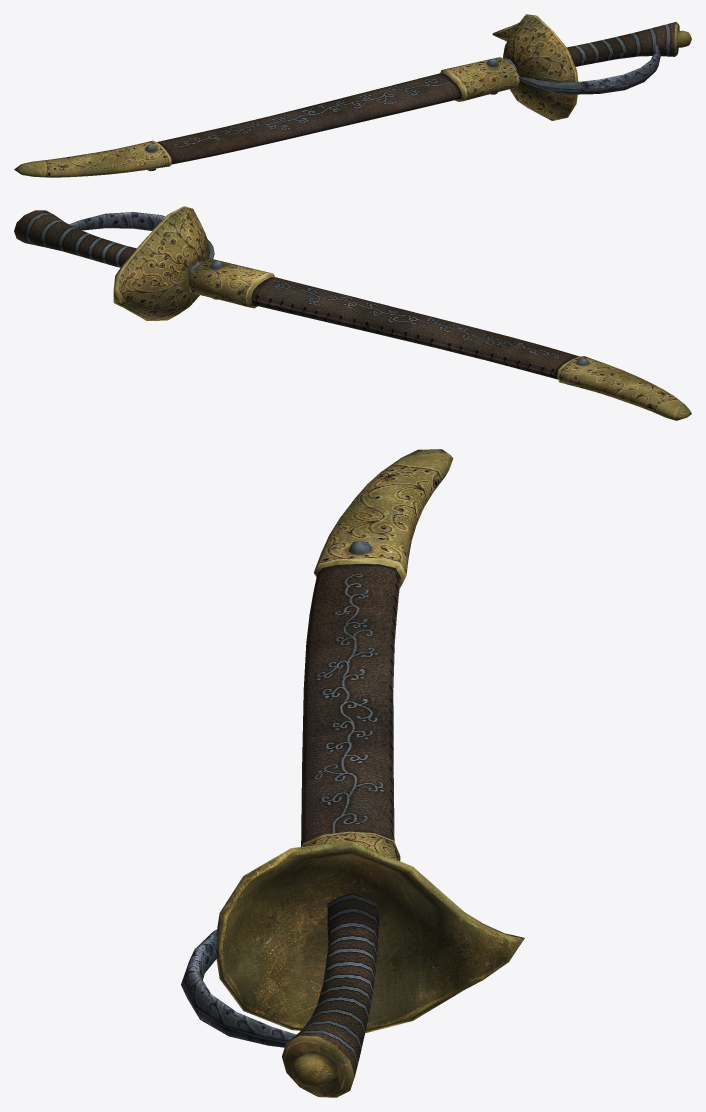
File: Pirate_sword_A_with_scabbard.FBX
The picture shows the model from 3 angles, top to bottom: view 1: azimuth 30°, elevation 25°; view 2: azimuth 150°, elevation 25°; view 3: azimuth 270°, elevation 25°; orthographic projection. The views are drawn at different scales.
Parts seen in each view (by area): view 1: Pirate_sword_A_sheath, Pirate_sword_A; view 2: Pirate_sword_A_sheath, Pirate_sword_A; view 3: Pirate_sword_A, Pirate_sword_A_sheath.
Boxes of the visible parts, left/top/right/bottom form: Pirate_sword_A_sheath: left=14, top=57, right=519, bottom=177; Pirate_sword_A: left=492, top=14, right=691, bottom=120; Pirate_sword_A_sheath: left=188, top=259, right=691, bottom=420; Pirate_sword_A: left=14, top=206, right=214, bottom=320; Pirate_sword_A: left=181, top=841, right=524, bottom=1097; Pirate_sword_A_sheath: left=301, top=449, right=453, bottom=860.
Bounding box in the file's own units: 111 × 16 × 25.61.
